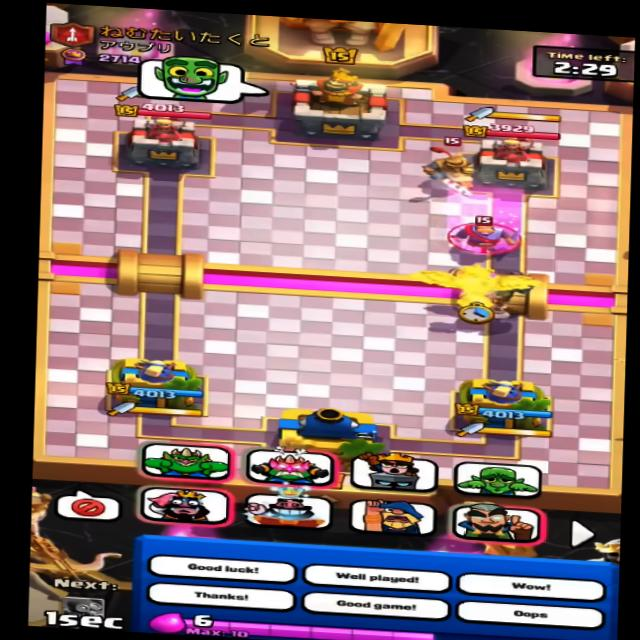knight: (457, 214, 521, 255)
prince: (420, 146, 484, 199)
